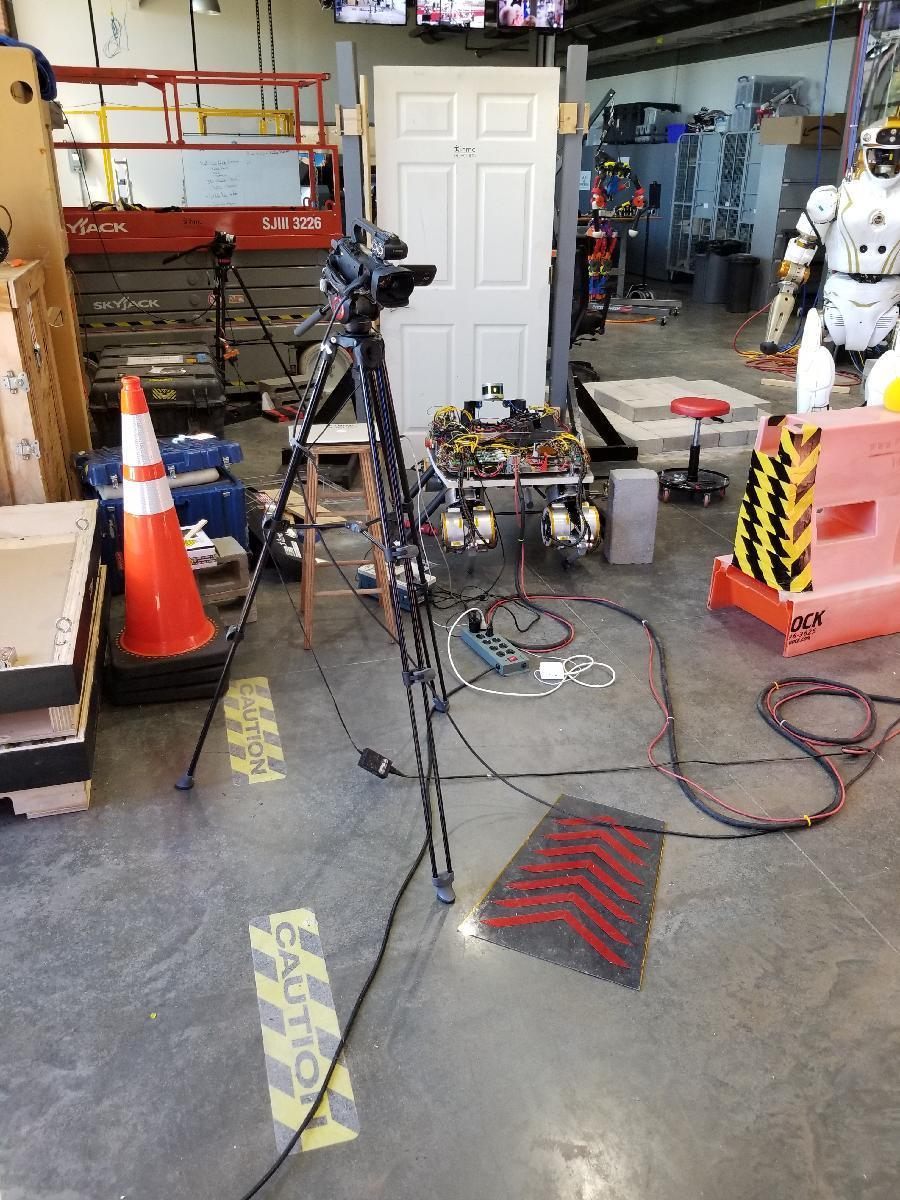door: (370, 66, 558, 501)
